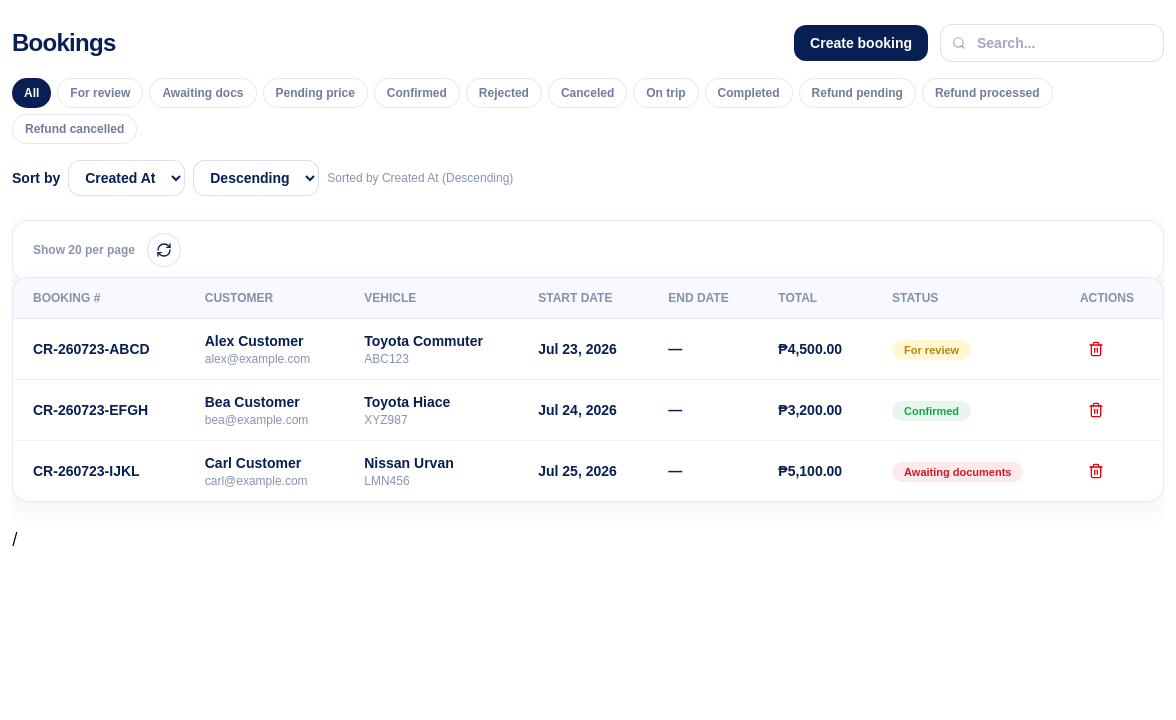
Scenario: AdminBookings › opens the delete modal on the booking details page
The width and height of the screenshot is (1176, 720).
Click the button named "Delete booking CR-260723-ABCD" at (1096, 349), box x1=1080 y1=333 x2=1112 y2=365
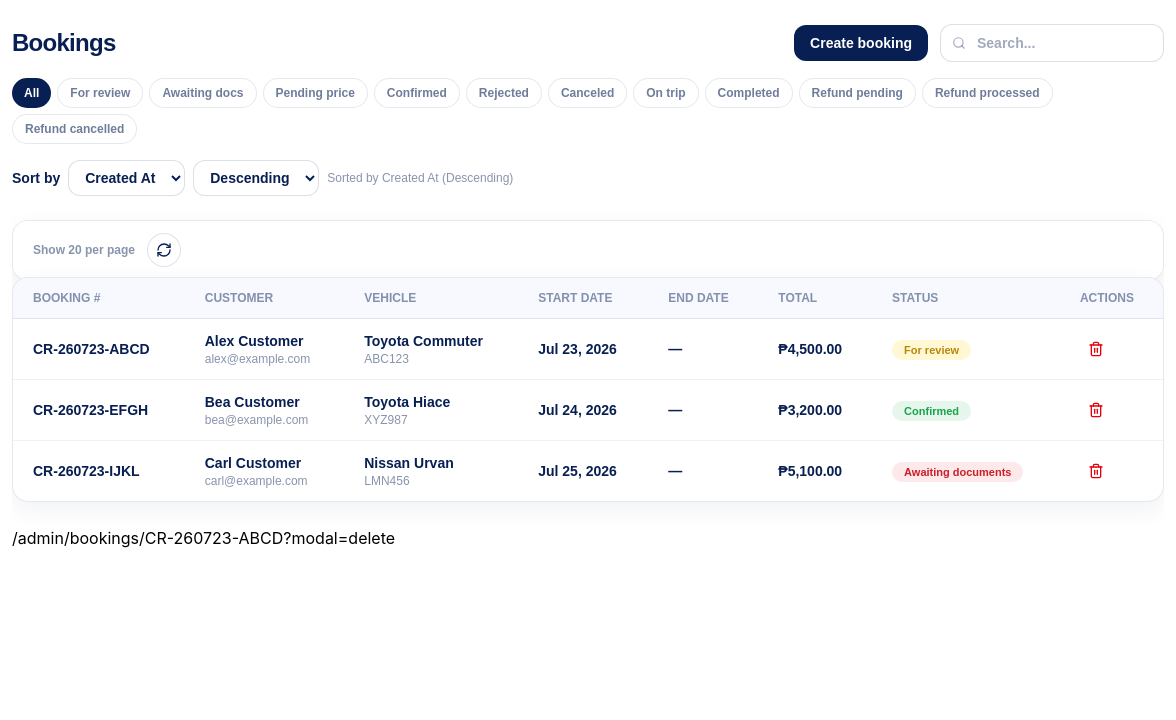
Now the text with test id "location" reads "/admin/bookings/CR-260723-ABCD?modal=delete", box x1=12 y1=528 x2=395 y2=548
